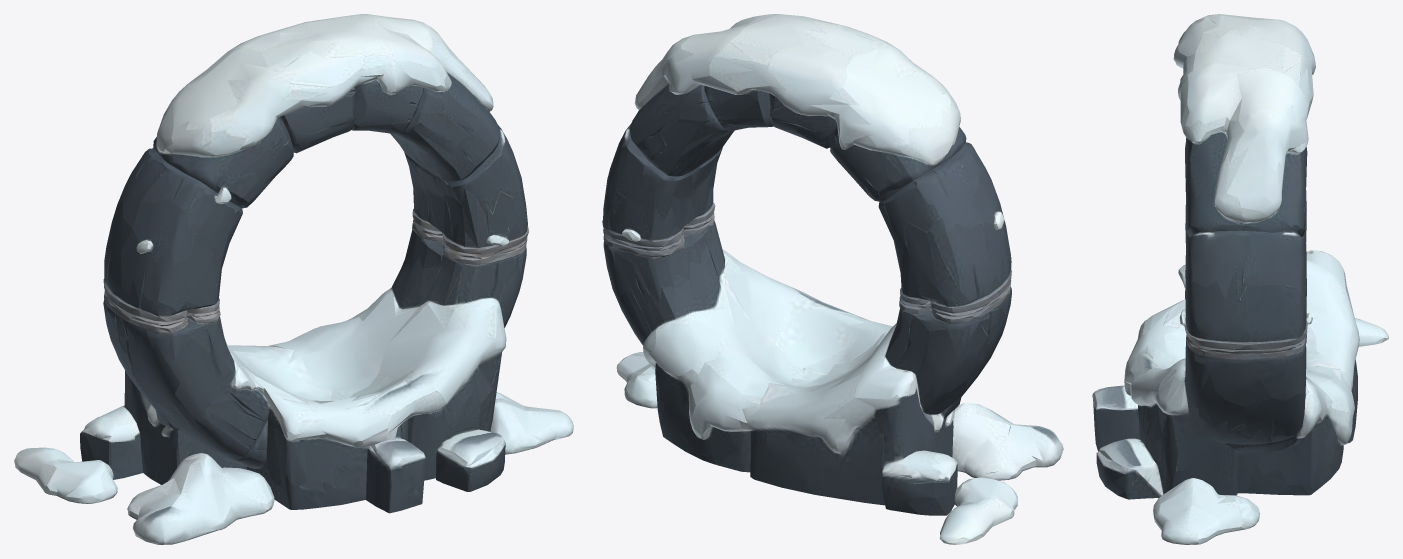
File: ruin_stones.glb
3 renders of one model, left to right at view 1: azimuth 30°, elevation 25°; view 2: azimuth 150°, elevation 25°; view 3: azimuth 270°, elevation 25°, orthographic. The views are drawn at different scales.
Size of the model in its own units: 1.9 by 1.65 by 1.09.
1 material, 1 textured.
